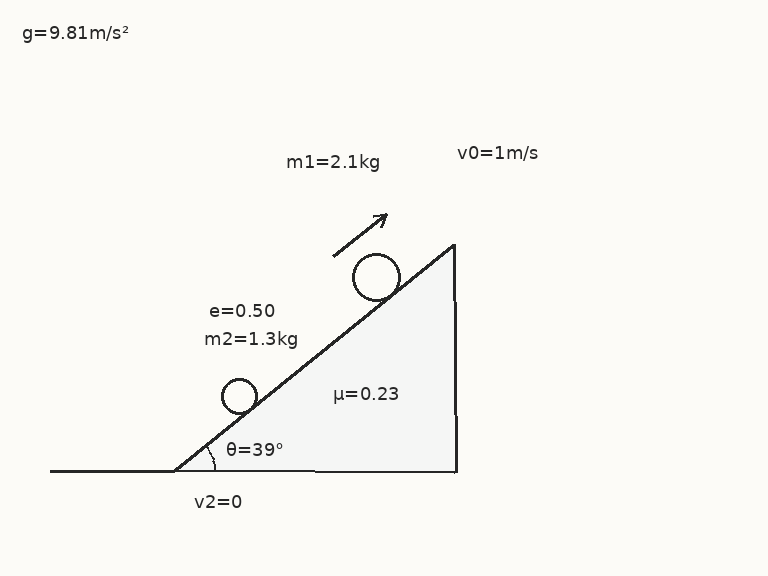ball: (350, 251, 402, 303), (219, 376, 259, 416)
ramp: (173, 243, 456, 473)
